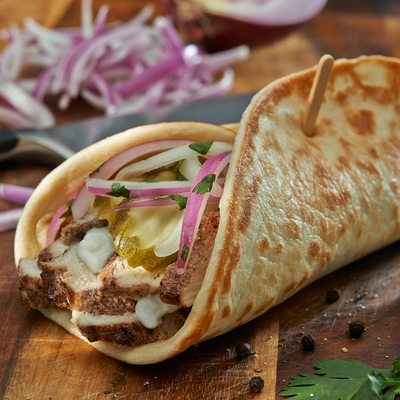soup: (140, 57, 400, 368), (13, 120, 240, 361)
